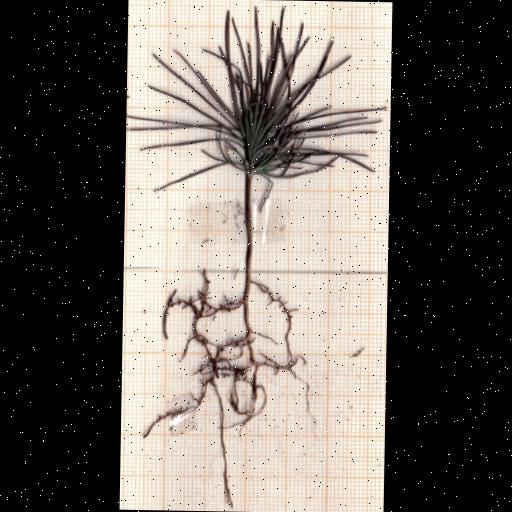flowerCedr: (142, 7, 383, 191)
rootCedr: (144, 271, 298, 508), (145, 272, 298, 467)
stemCedr: (244, 173, 254, 286)
